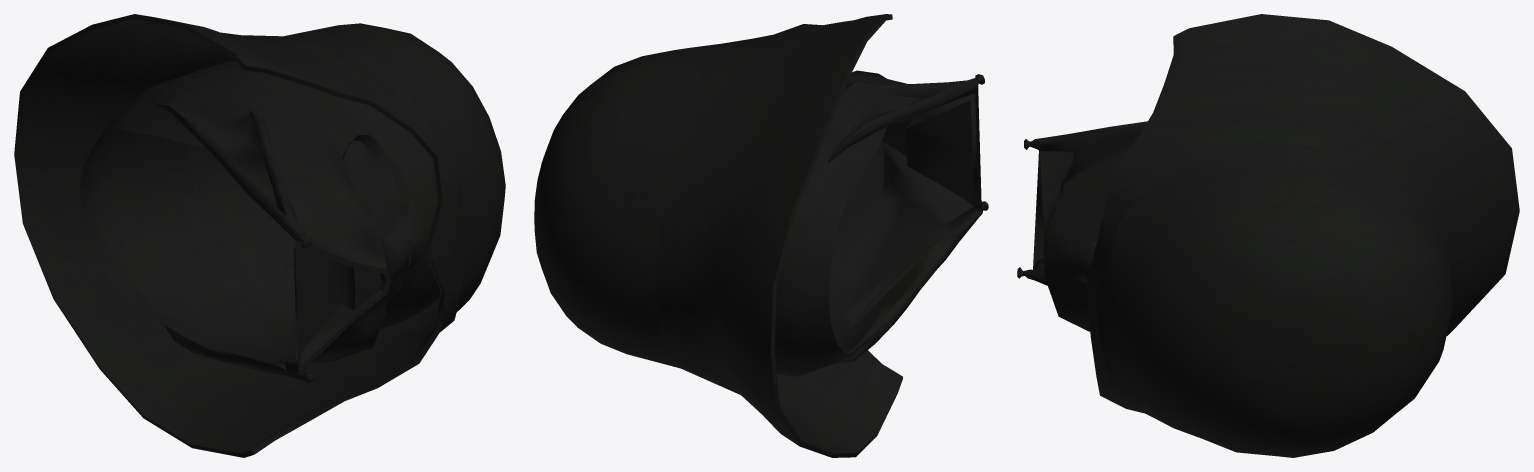
The model's file is DarthVaderHelmet.fbx.
3 views of the same model, side by side, from view 1: azimuth 30°, elevation 25°; view 2: azimuth 150°, elevation 25°; view 3: azimuth 270°, elevation 25° (orthographic). The views are drawn at different scales.
Visible parts, largest first — view 1: Helmet1; view 2: Helmet1; view 3: Helmet1.
Boxes of the visible parts, x1,y1,x2,y2 form: Helmet1: (14,14,505,457); Helmet1: (534,14,988,457); Helmet1: (1017,14,1519,457).
Size of the model in its own units: 0.1911 by 0.2236 by 0.2512.
